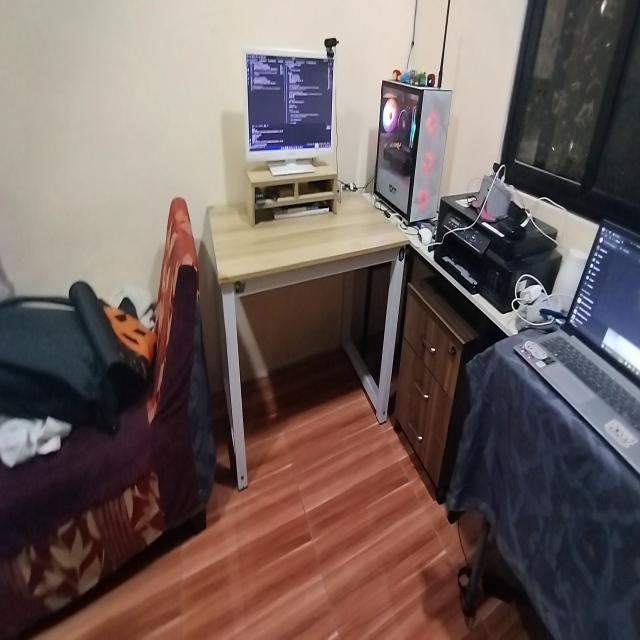table: (200, 171, 412, 463)
